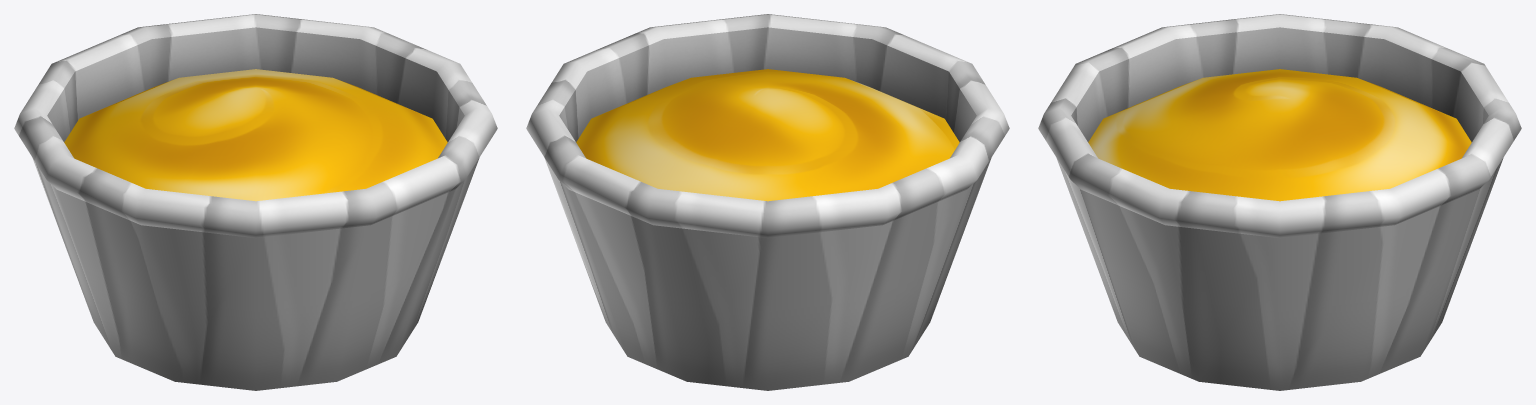
Rendered from Mustard_Cup.fbx.
The picture shows the model from 3 angles, left to right: view 1: azimuth 30°, elevation 25°; view 2: azimuth 150°, elevation 25°; view 3: azimuth 270°, elevation 25°; orthographic projection.
Visible parts, largest first — view 1: Mustard_Cup; view 2: Mustard_Cup; view 3: Mustard_Cup.
Part boxes in pixels (x1=…): Mustard_Cup: x1=14, y1=14, x2=497, y2=390; Mustard_Cup: x1=526, y1=14, x2=1009, y2=390; Mustard_Cup: x1=1038, y1=14, x2=1521, y2=390.
Size of the model in its own units: 37.45 by 19.86 by 37.45.
